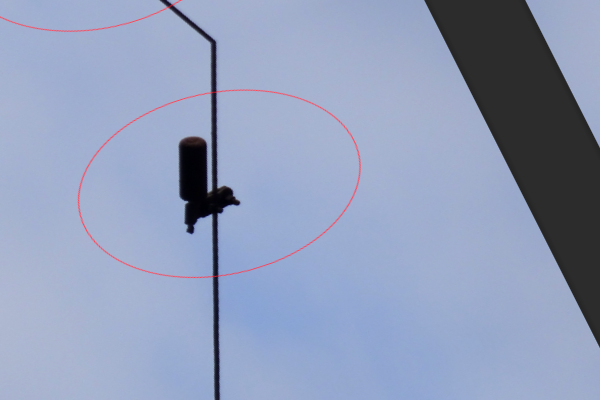damper_defect: (175, 132, 241, 237)
